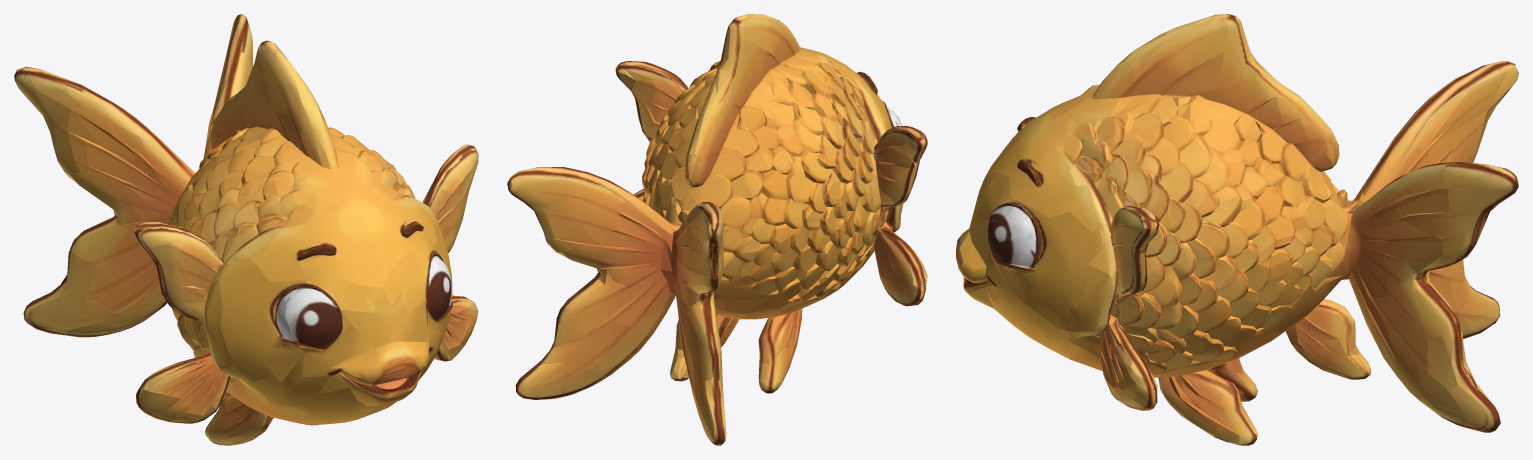
Rendered from pet_goldie.glb.
3 views of the same model, side by side, from view 1: azimuth 30°, elevation 25°; view 2: azimuth 150°, elevation 25°; view 3: azimuth 270°, elevation 25° (orthographic). The views are drawn at different scales.
Bounding box in the file's own units: 1.38 × 1.52 × 1.9.
1 material, 1 textured.
